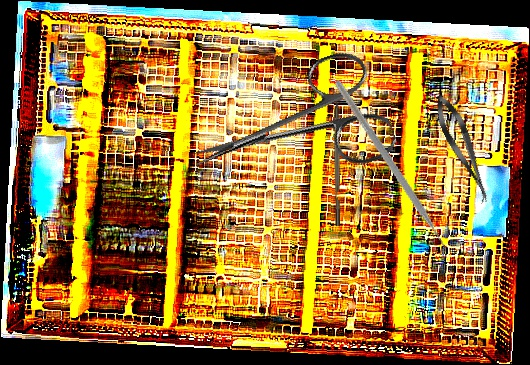Chopper: (284, 79, 493, 265), (329, 89, 340, 226)
Iris Scissors: (176, 44, 401, 216)
Micro Scissor: (428, 90, 498, 207)
